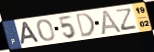5: (57, 14, 78, 40)
A: (100, 8, 123, 36), (20, 21, 41, 46)
D: (74, 12, 96, 39)
O: (36, 18, 56, 43)
Z: (116, 6, 138, 32)
